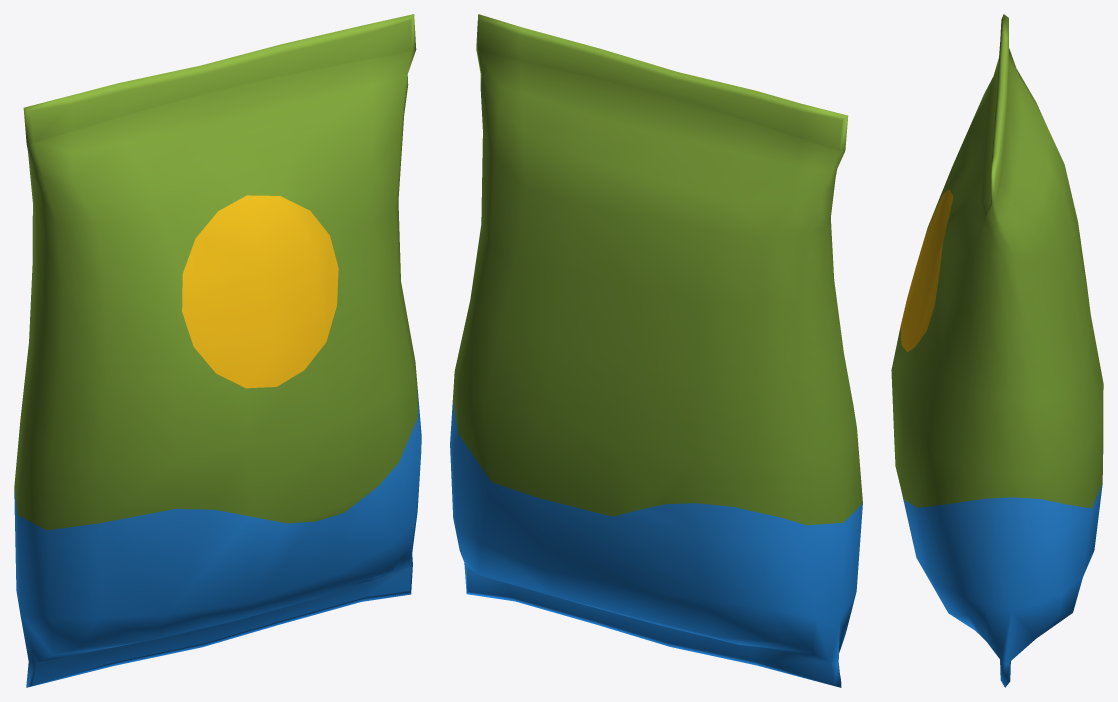
Rendered from chips_011.fbx.
3 views of the same model, side by side, from view 1: azimuth 30°, elevation 25°; view 2: azimuth 150°, elevation 25°; view 3: azimuth 270°, elevation 25° (orthographic). The views are drawn at different scales.
Parts seen in each view (by area): view 1: chips_011; view 2: chips_011; view 3: chips_011.
Boxes of the visible parts, x1=… form: chips_011: x1=14, y1=14, x2=421, y2=687; chips_011: x1=450, y1=14, x2=862, y2=687; chips_011: x1=891, y1=14, x2=1103, y2=687.
Size of the model in its own units: 16.12 by 8.65 by 23.18.
